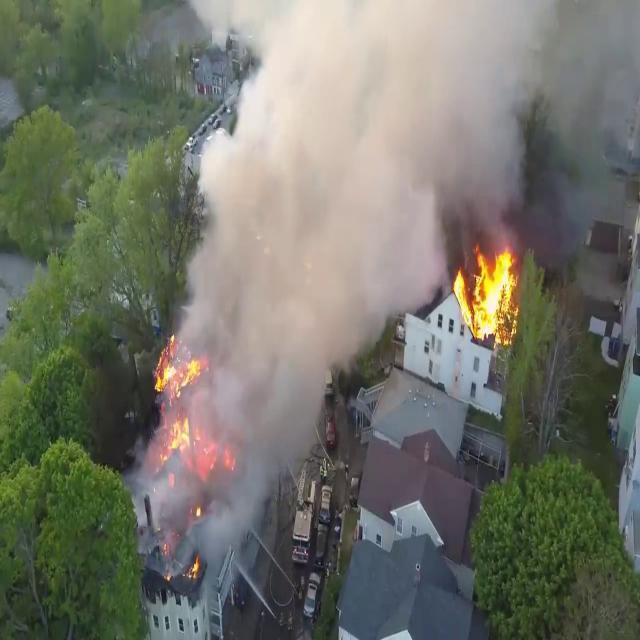Fire: (147, 333, 210, 471), (452, 241, 524, 345)
Smoke: (168, 0, 640, 272), (144, 2, 368, 552)
